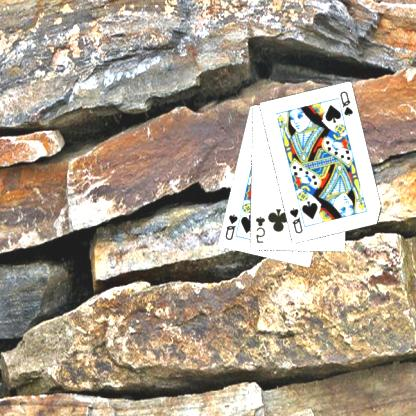5C: (254, 214, 269, 245)
QS: (288, 204, 306, 236), (224, 212, 241, 242), (339, 89, 356, 118)
